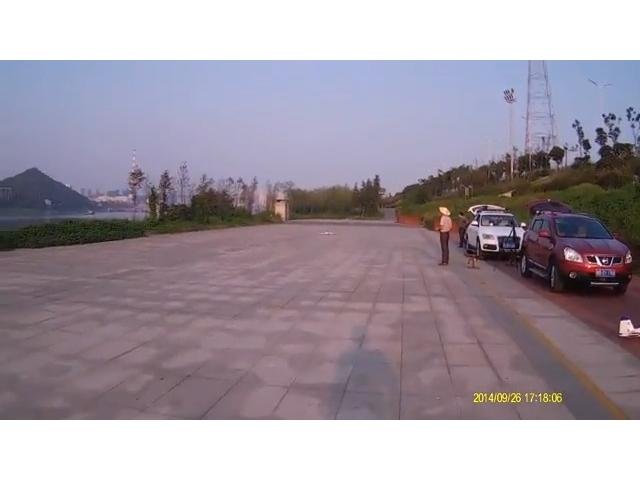Anti-Drone: (314, 226, 338, 240)
